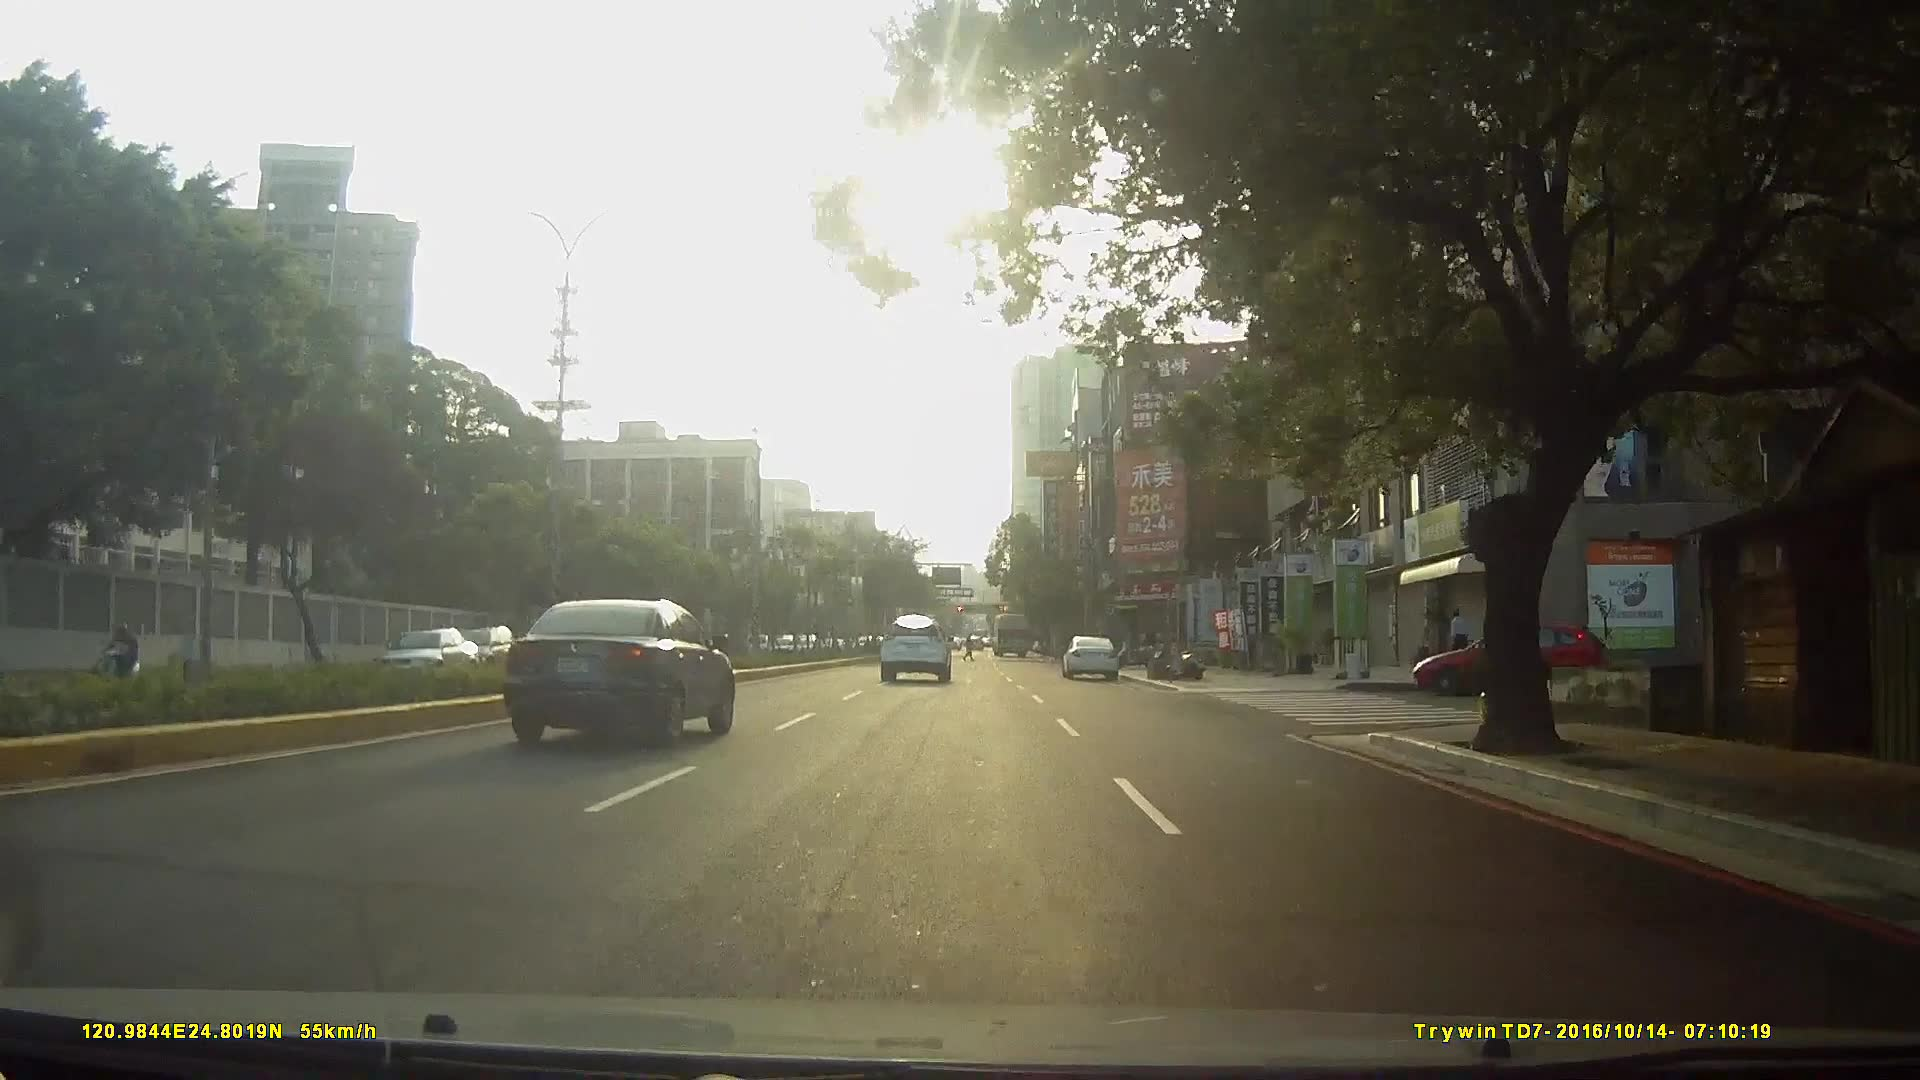pedestrian: (1449, 609, 1472, 676)
rider: (93, 620, 149, 695)
vehicle: (508, 598, 741, 746), (1415, 601, 1626, 691), (371, 624, 490, 693), (879, 617, 953, 685), (448, 615, 522, 667), (1060, 635, 1122, 681), (988, 613, 1032, 660)
